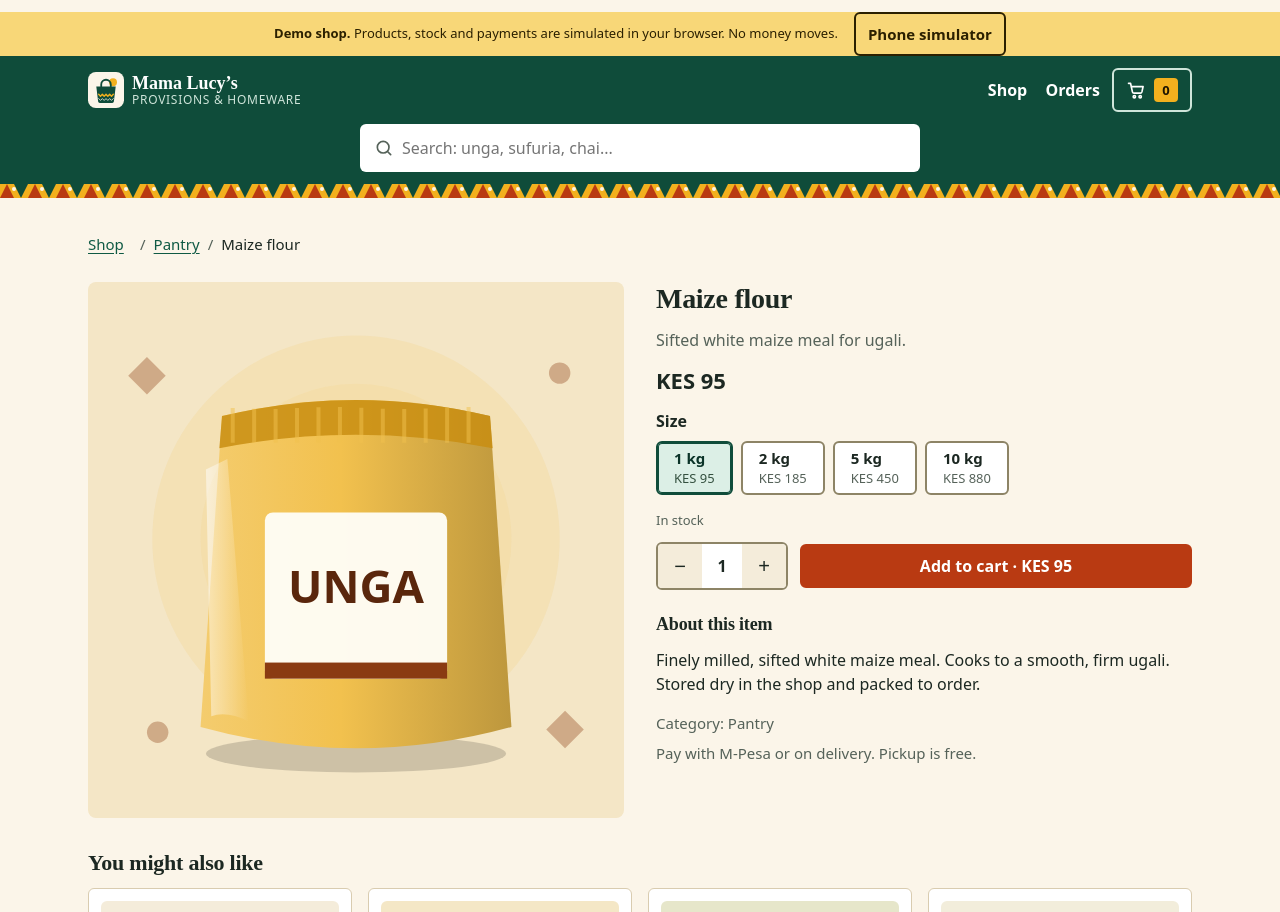
Test: product page › switches price with the selected variant and marks the group
Expected: the heading "Maize flour" is shown, [656, 283, 792, 314]
Expected: the text with test id "price" reads "KES 95", [656, 365, 726, 395]
Click the radio button labelled "5 kg KES 450": (875, 468) [833, 441, 917, 495]
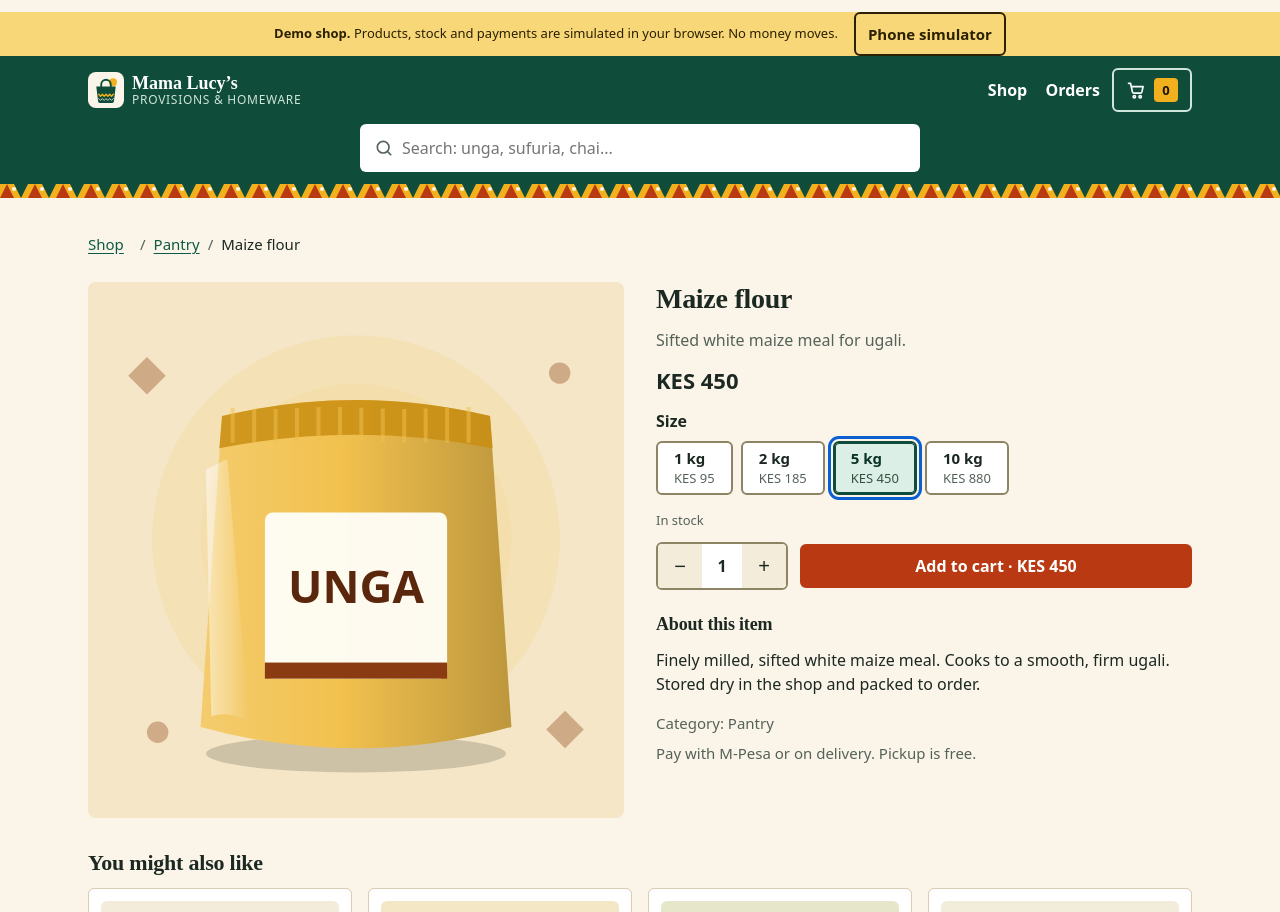
Expected: the text with test id "price" reads "KES 450", [656, 365, 738, 395]
